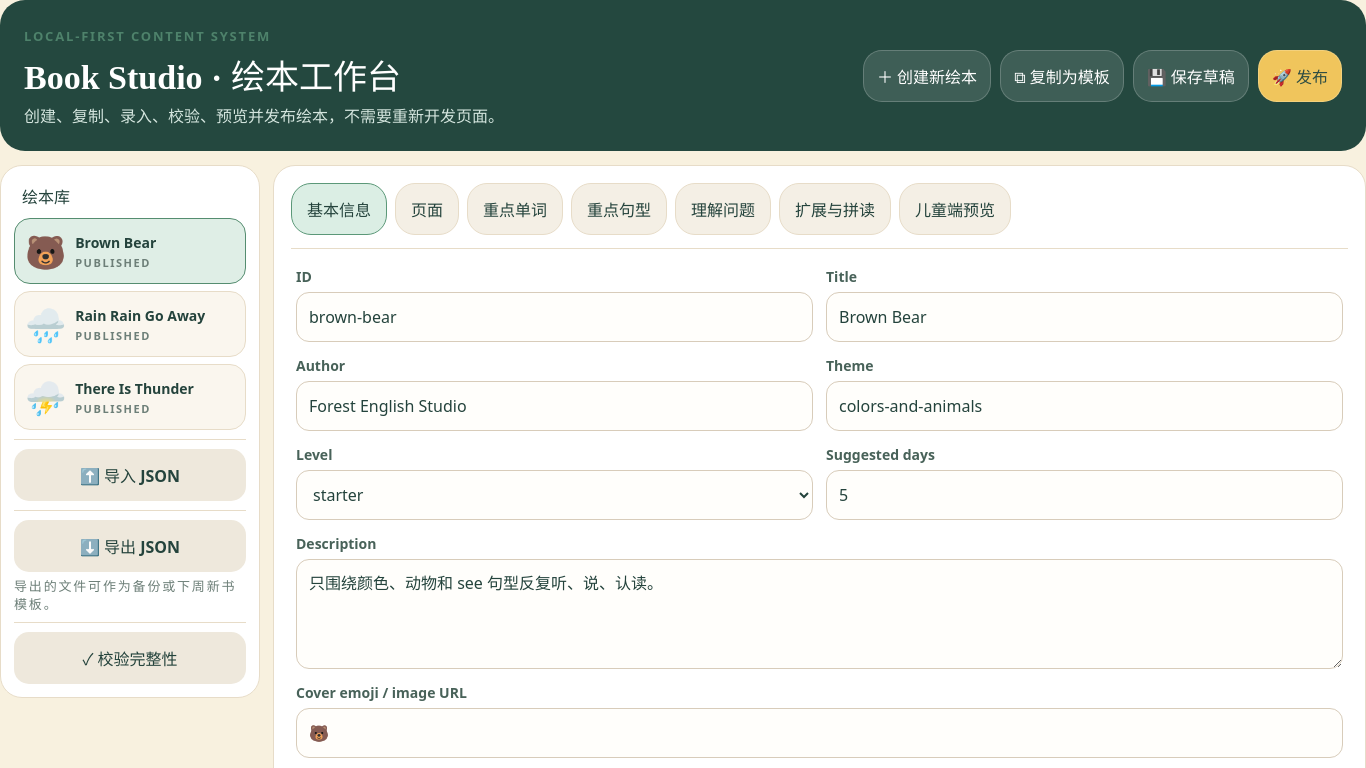
it: Book Studio › creates, duplicates, validates, previews and exposes import/export controls
Expected: the heading "Book Studio · 绘本工作台" is shown, [24,59,401,96]
Expected: the button "＋ 创建新绘本" is shown, [863,50,991,102]
Click the button "儿童端预览" at (955, 209), box [899,183,1011,235]
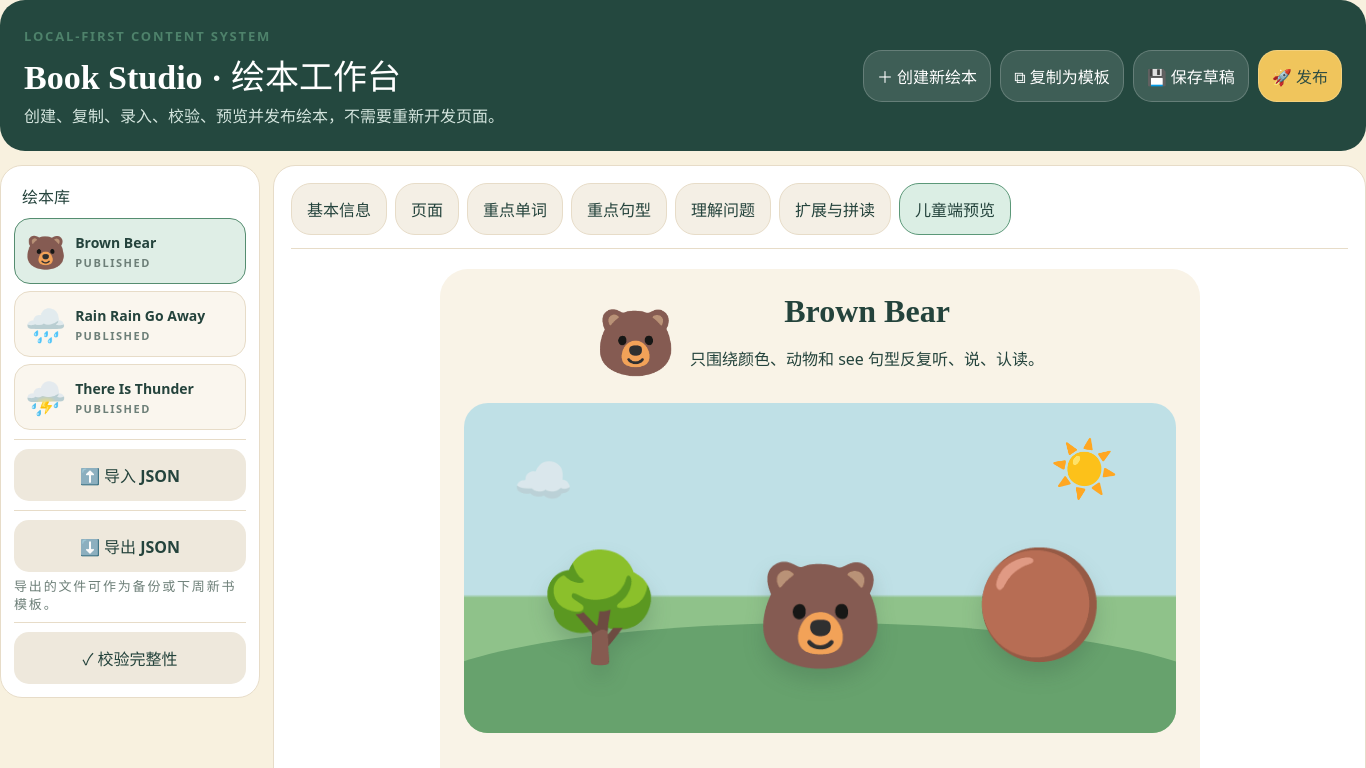
Now the heading "Brown Bear" is shown, box [784,293,950,329]
